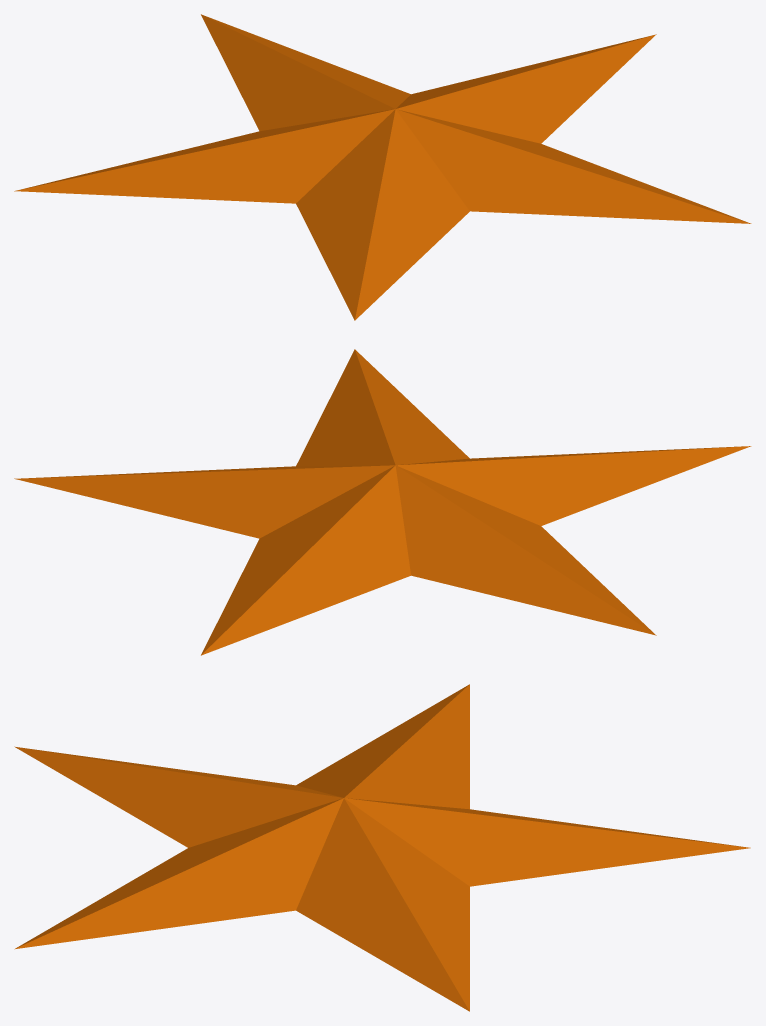
The model's file is star.dae.
3 views of the same model, one above another, from view 1: azimuth 30°, elevation 25°; view 2: azimuth 150°, elevation 25°; view 3: azimuth 270°, elevation 25° (orthographic). The views are drawn at different scales.
Parts seen in each view (by area): view 1: Star; view 2: Star; view 3: Star.
Boxes of the visible parts, x1,y1,x2,y2 form: Star: (14, 14, 751, 320); Star: (14, 349, 751, 655); Star: (14, 684, 750, 1011).
Bounding box in the file's own units: 4.98 × 0.708 × 4.74.
